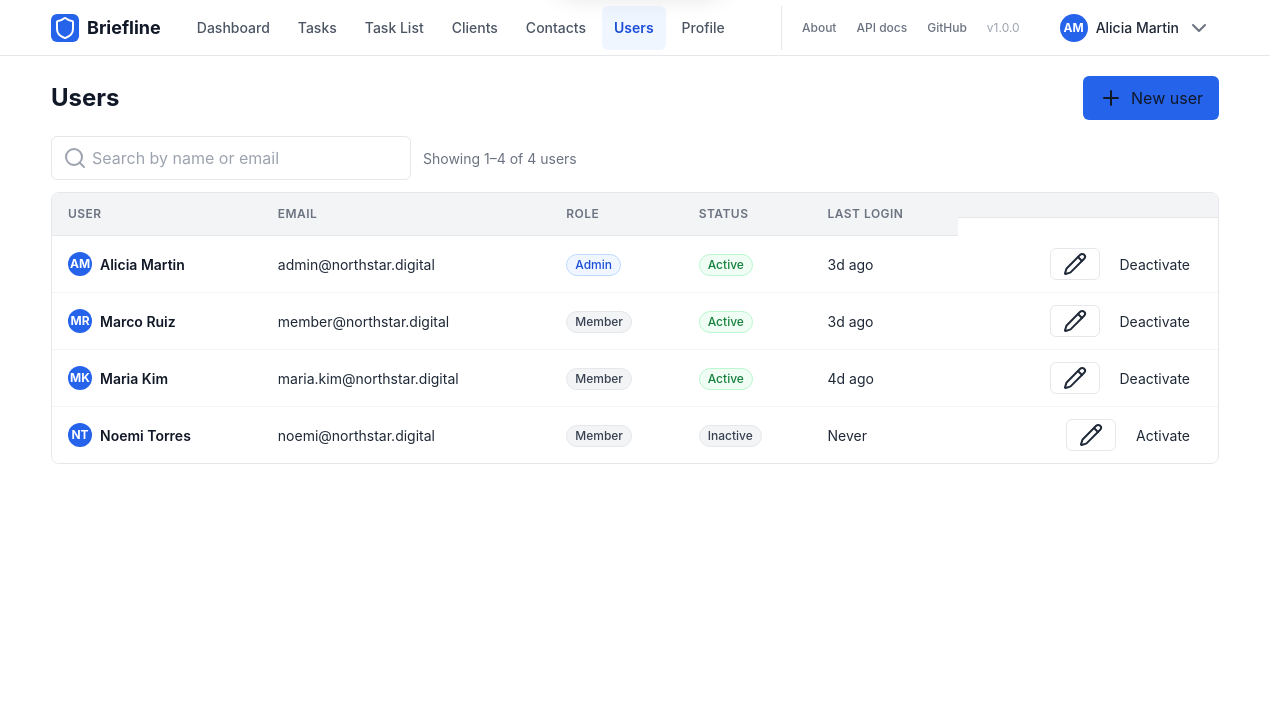
Test: User management › blocks deactivating the last active administrator (banner + disabled confirm)
Expected: the heading "Users" is shown, [51,83,120,113]
Expected: the table named "Users" is shown, [52,193,1218,463]
Click the button "Deactivate" in the row of "admin@northstar.digital" at (1155, 264), box [1108,248,1202,280]
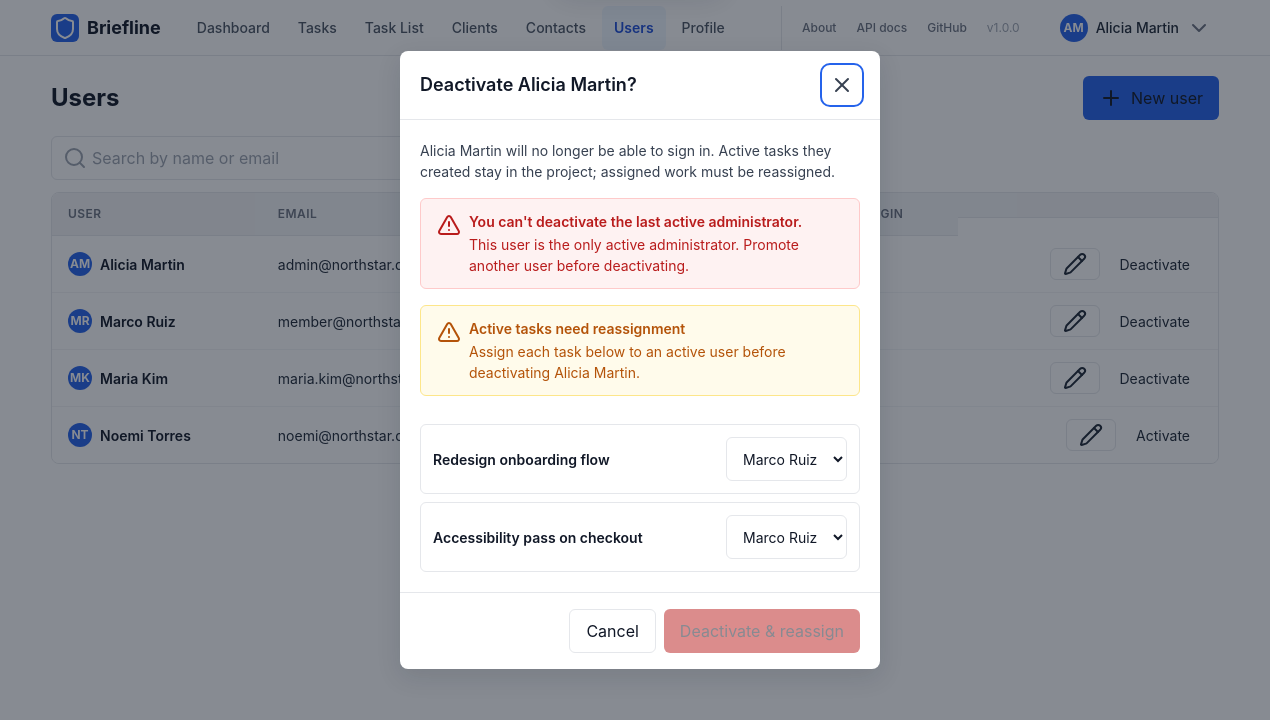
Expected: the text "You can't deactivate the last active administrator." is shown, [469,211,843,232]
Expected: the button "Deactivate & reassign" is disabled, [664,609,860,653]
Note: The edit dialog also disables the role select for the last admin.
Click the button "Cancel" at (613, 631), box [569,609,656,653]
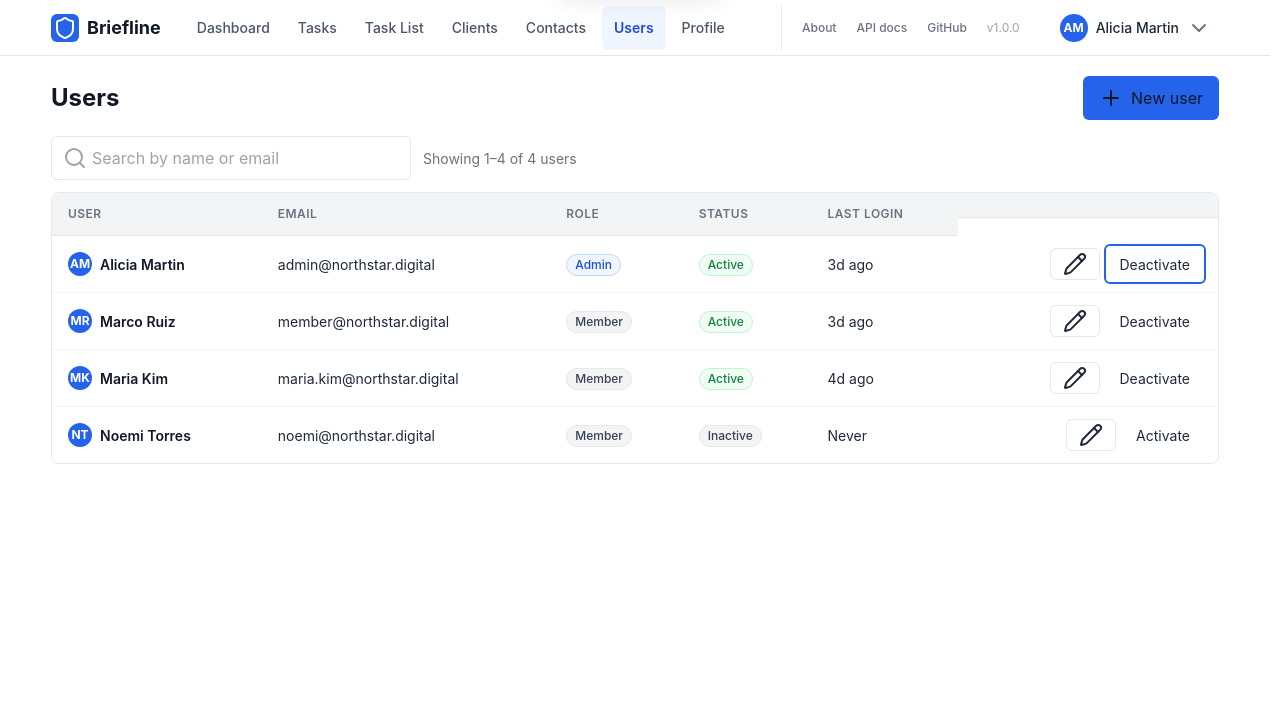
Click the button named "Edit" at (1074, 264), box [1050,248,1100,280]
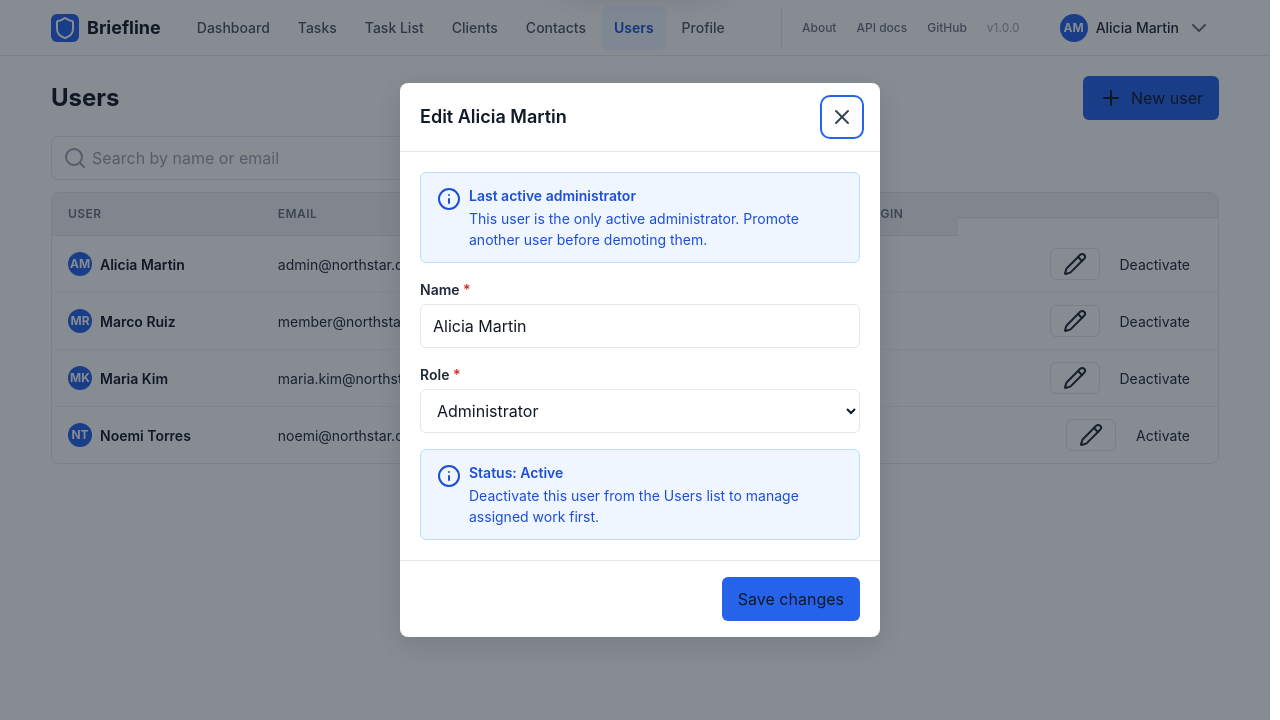
Expected: the text "Last active administrator" is shown, [469,187,636,204]
Expected: the dropdown labelled "Role *" is disabled, [420,389,860,433]
